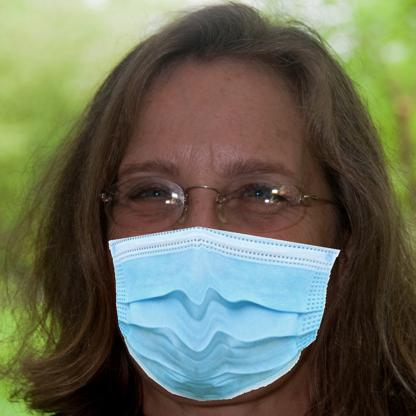mask: (104, 226, 337, 401)
